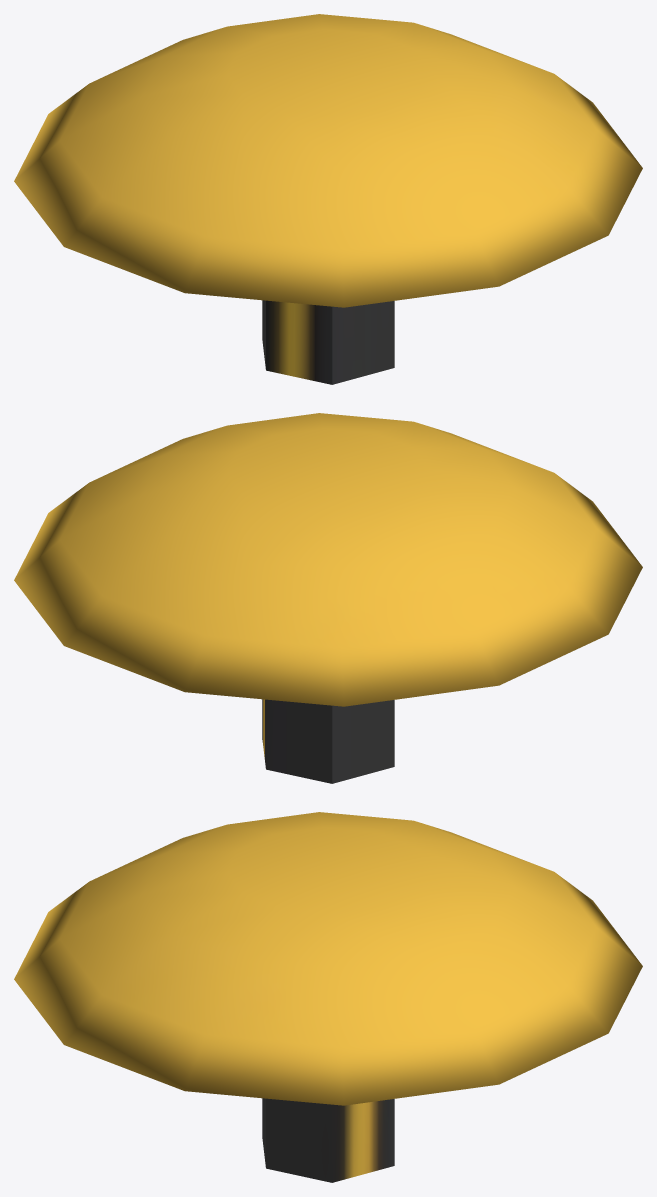
File: HelicopterRotorCap.fbx
The picture shows the model from 3 angles, top to bottom: view 1: azimuth 30°, elevation 25°; view 2: azimuth 150°, elevation 25°; view 3: azimuth 270°, elevation 25°; orthographic projection.
Visible parts, largest first — view 1: Plane.005; view 2: Plane.005; view 3: Plane.005.
Boxes of the visible parts, <box> form: Plane.005: <box>14,14,642,384</box>; Plane.005: <box>14,413,642,783</box>; Plane.005: <box>14,812,642,1182</box>.
Bounding box in the file's own units: 11.06 × 5.45 × 11.06.
1 material, 1 textured.
